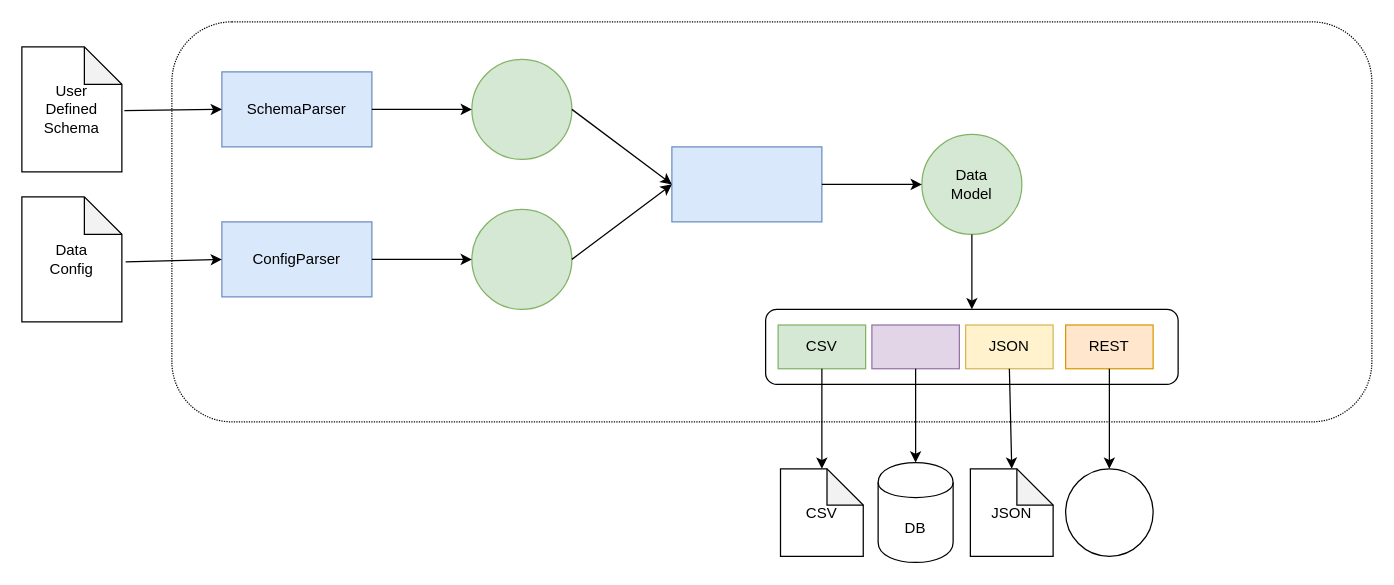
Some shapes in this 1394 by 585 pixel diagram are drawn without their labels. Here are the shapes that lost their labels. From the top down, the box of each, then its label:
(471, 58, 572, 159): Schema Model
(671, 146, 822, 222): DataGenerator
(471, 208, 572, 309): Config
(871, 324, 959, 369): JDBC
(1064, 468, 1153, 556): Endpoint
